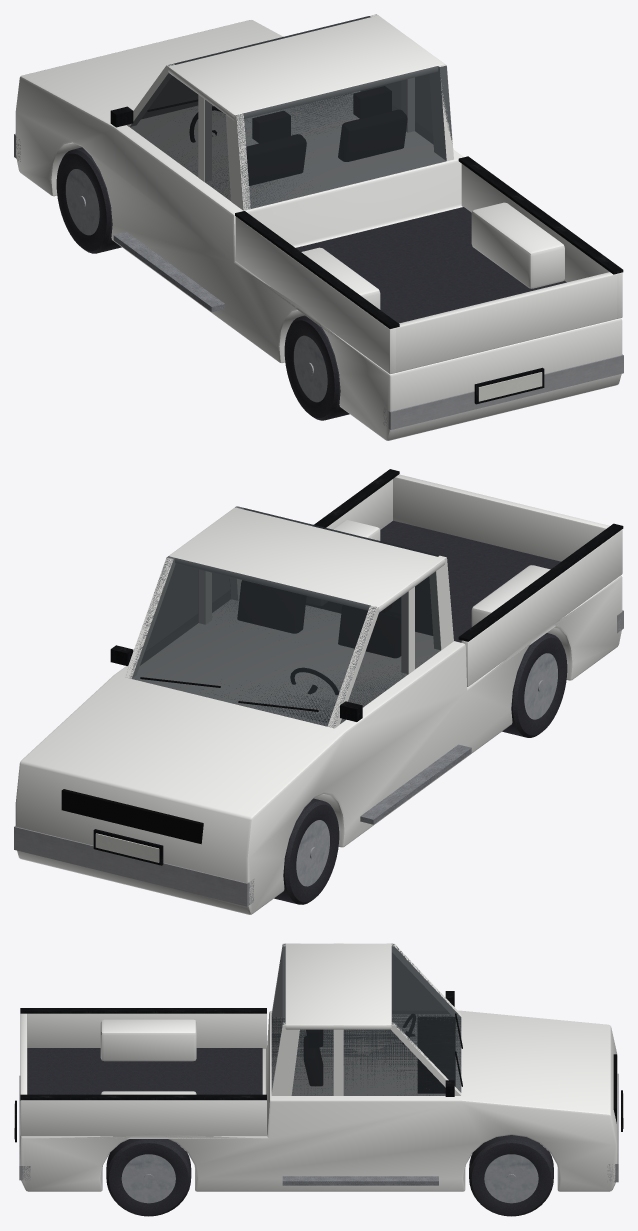
The model's file is pickup_white.gltf.
The picture shows the model from 3 angles, top to bottom: view 1: azimuth 30°, elevation 25°; view 2: azimuth 150°, elevation 25°; view 3: azimuth 270°, elevation 25°; orthographic projection. The views are drawn at different scales.
Visible parts, largest first — view 1: pickup_white; view 2: pickup_white; view 3: pickup_white.
Boxes of the visible parts, x1,y1,x2,y2 form: pickup_white: [14, 14, 623, 440]; pickup_white: [14, 469, 623, 914]; pickup_white: [14, 943, 623, 1216].
Bounding box in the file's own units: 2.14 × 1.86 × 5.47.
19 materials, 11 textured.
